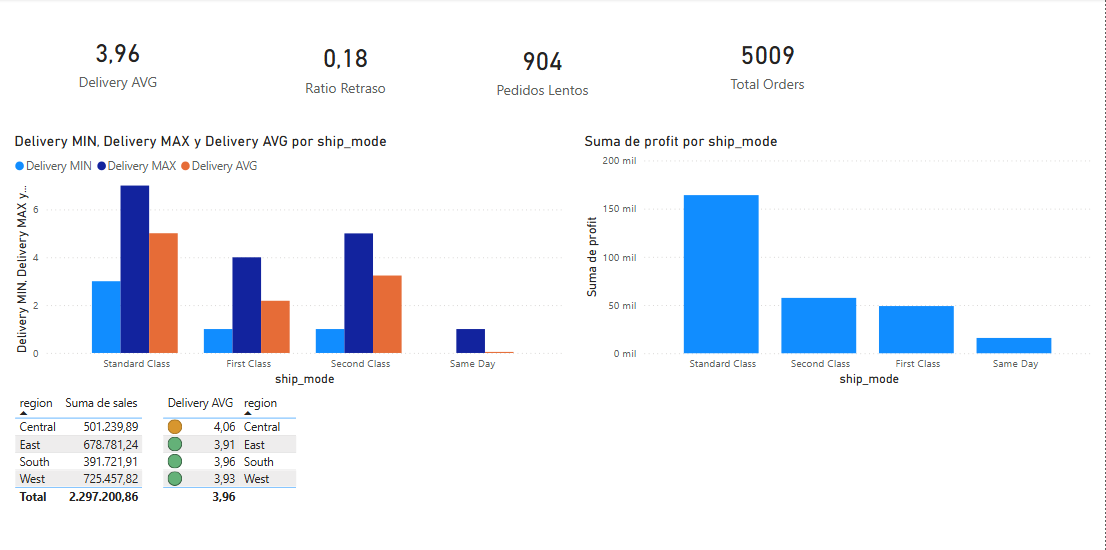

Layout of this report page (visuals, bound fields, positions):
{"tool":"powerbi","page":{"name":"Delivery","canvas":[1280,720],"ordinal":2},"visuals":[{"type":"clusteredColumnChart","fields":{"Category":["dim_ship_mode.ship_mode"],"Y":["Medidas.Delivery MIN","Medidas.Delivery MAX","Medidas.Delivery AVG"]},"box":[12.1,154.9,644,299.1],"z":0},{"type":"card","fields":{"Values":["Medidas.Delivery AVG"]},"box":[12.1,0,249.3,145.5],"z":1000},{"type":"clusteredColumnChart","fields":{"Category":["dim_ship_mode.ship_mode"],"Y":["Sum(fact_sales.profit)"]},"box":[671,154.9,599.6,299.1],"z":2000},{"type":"card","fields":{"Values":["Medidas.Pedidos Lentos"]},"box":[489.1,8.1,276.2,146.9],"z":3000},{"type":"card","fields":{"Values":["Medidas.Total Orders"]},"box":[750.5,0,276.2,149.6],"z":4000},{"type":"card","fields":{"Values":["Medidas.Ratio Retraso"]},"box":[261.4,4,276.2,150.9],"z":5000},{"type":"tableEx","fields":{"Values":["Medidas.Delivery AVG","dim_location.region"]},"box":[182.9,453.8,188.7,140.1],"z":6000},{"type":"tableEx","fields":{"Values":["dim_location.region","Sum(fact_sales.sales)"]},"box":[11.6,453.8,171.3,150.5],"z":7000}]}

Visuals, with their boxes on the page's 1280x720 design canvas (x1, y1, x2, y2). These are canvas units, not pixel positions in the 1106x550 screenshot, which may show the page scaled, cropped or inside an application window:
clusteredColumnChart - dim_ship_mode.ship_mode x Medidas.Delivery MIN: 12:155:656:454
card - Medidas.Delivery AVG: 12:0:261:146
clusteredColumnChart - dim_ship_mode.ship_mode x Sum(fact_sales.profit): 671:155:1271:454
card - Medidas.Pedidos Lentos: 489:8:765:155
card - Medidas.Total Orders: 750:0:1027:150
card - Medidas.Ratio Retraso: 261:4:538:155
tableEx - Medidas.Delivery AVG x dim_location.region: 183:454:372:594
tableEx - dim_location.region x Sum(fact_sales.sales): 12:454:183:604
